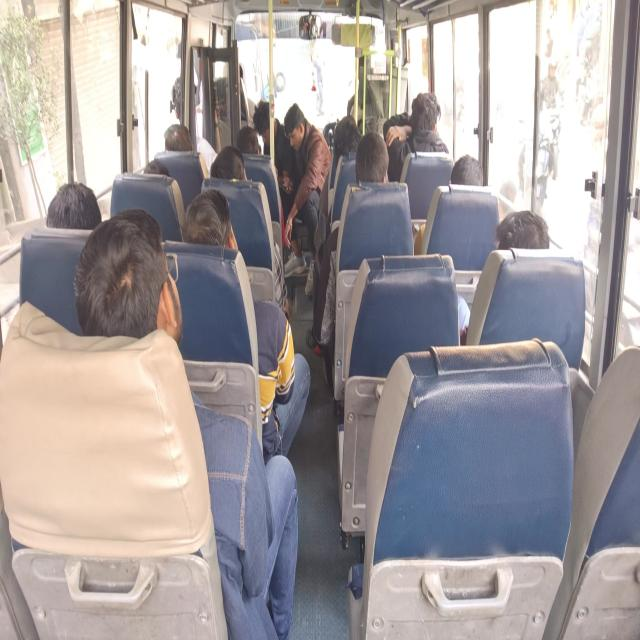person: (85, 225, 173, 335), (178, 199, 248, 259), (482, 202, 548, 257), (42, 177, 108, 225), (441, 146, 482, 197), (413, 97, 444, 152), (356, 136, 388, 184), (169, 76, 199, 122), (164, 126, 196, 160), (213, 152, 245, 183), (232, 128, 266, 157), (142, 154, 176, 182), (337, 118, 360, 158), (351, 49, 373, 84), (288, 114, 304, 151), (258, 112, 274, 142)
